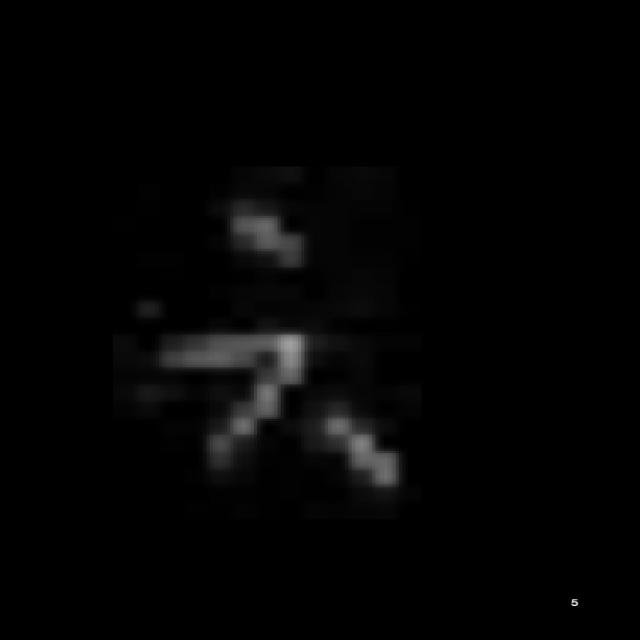6 -six-: (134, 192, 426, 517)
